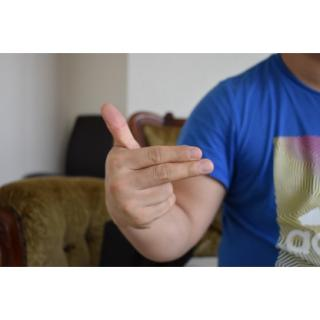GHAYN: (98, 99, 216, 232)
